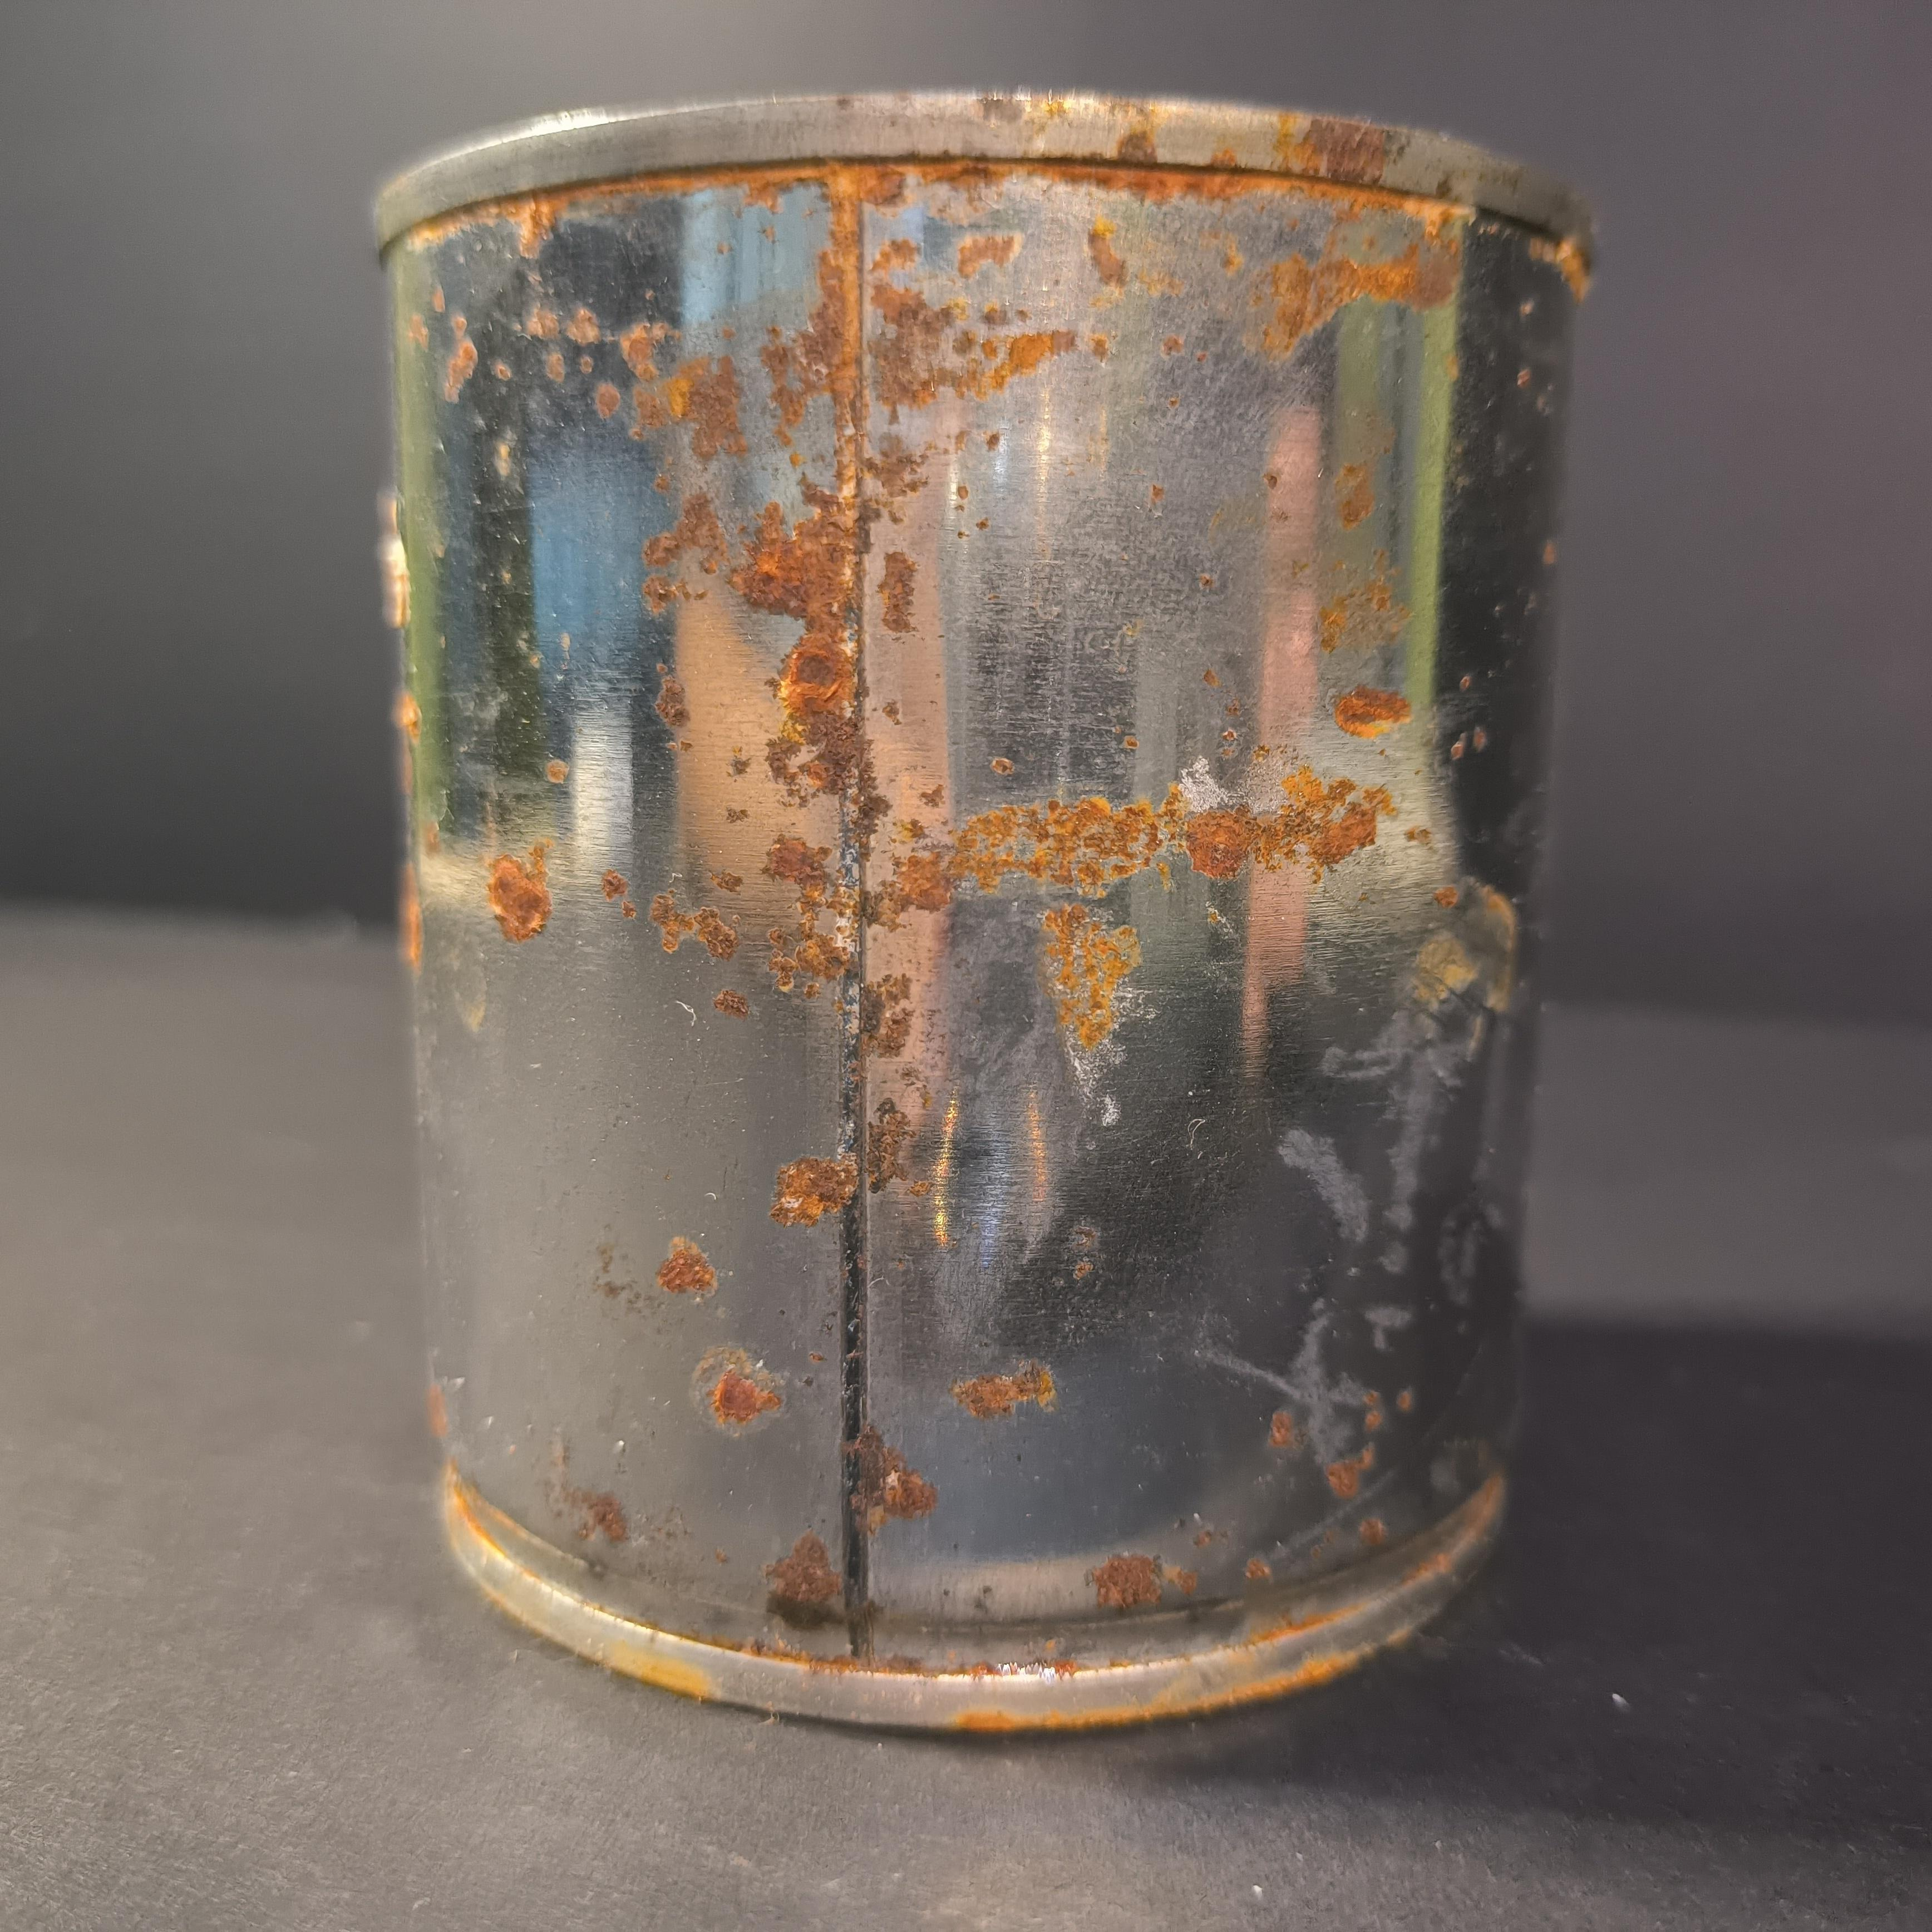Rusted: (354, 73, 1638, 1760)
